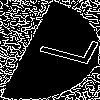L: (25, 25, 100, 67)
